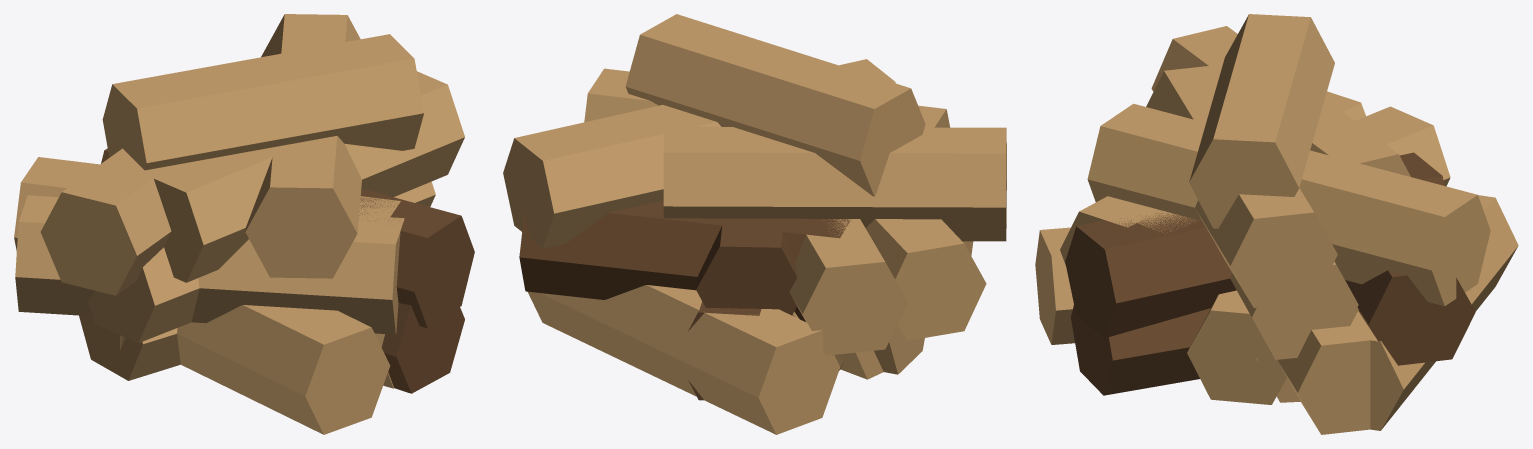
The model's file is GT_FirewoodPile_Loose_01.glb.
3 views of the same model, side by side, from view 1: azimuth 30°, elevation 25°; view 2: azimuth 150°, elevation 25°; view 3: azimuth 270°, elevation 25° (orthographic). The views are drawn at different scales.
Parts seen in each view (by area): view 1: GT_FirewoodPile_Loose_01; view 2: GT_FirewoodPile_Loose_01; view 3: GT_FirewoodPile_Loose_01.
Part boxes in pixels (bbox=[...]): GT_FirewoodPile_Loose_01: bbox=[14, 14, 474, 434]; GT_FirewoodPile_Loose_01: bbox=[503, 14, 1006, 434]; GT_FirewoodPile_Loose_01: bbox=[1035, 14, 1518, 434].
Bounding box in the file's own units: 0.6595 × 0.3966 × 0.653.
1 material, 1 textured.
